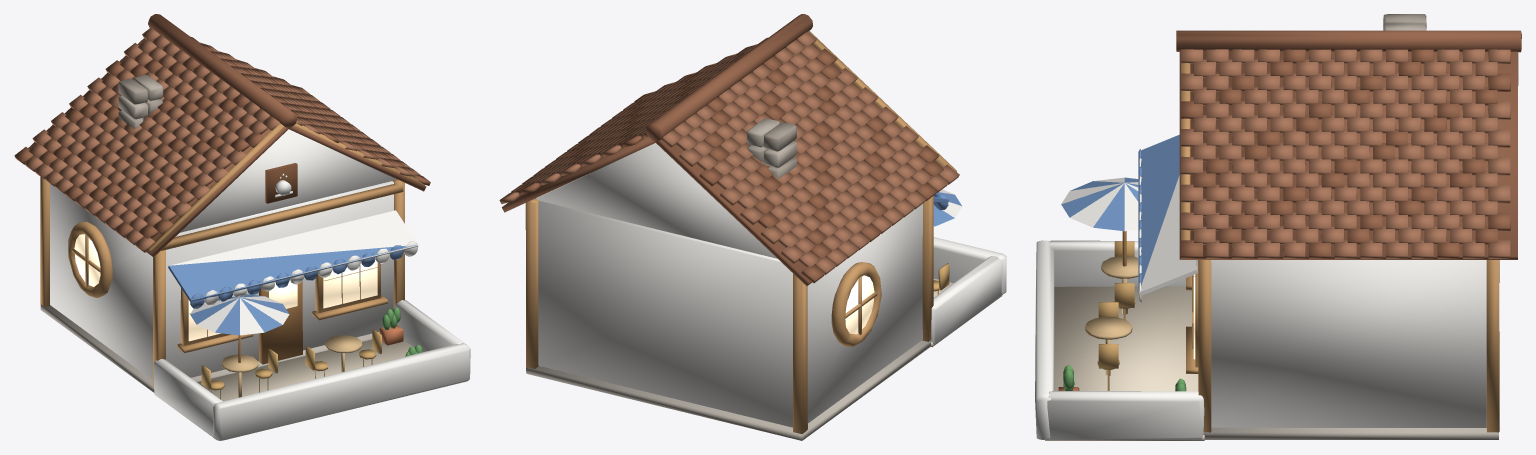
The model's file is cafe.glb.
3 views of the same model, side by side, from view 1: azimuth 30°, elevation 25°; view 2: azimuth 150°, elevation 25°; view 3: azimuth 270°, elevation 25° (orthographic). The views are drawn at different scales.
Parts seen in each view (by area): view 1: cafe; view 2: cafe; view 3: cafe.
Boxes of the visible parts, box(x1,y1,x2,y2) form: cafe: box(14, 14, 470, 440); cafe: box(499, 14, 1006, 440); cafe: box(1035, 14, 1521, 440).
Bounding box in the file's own units: 2.63 × 2.29 × 3.04.
